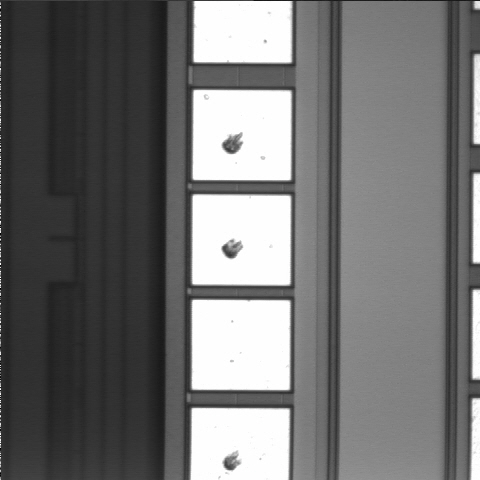pad: (192, 195, 291, 285), (193, 90, 291, 180), (192, 300, 290, 390)
